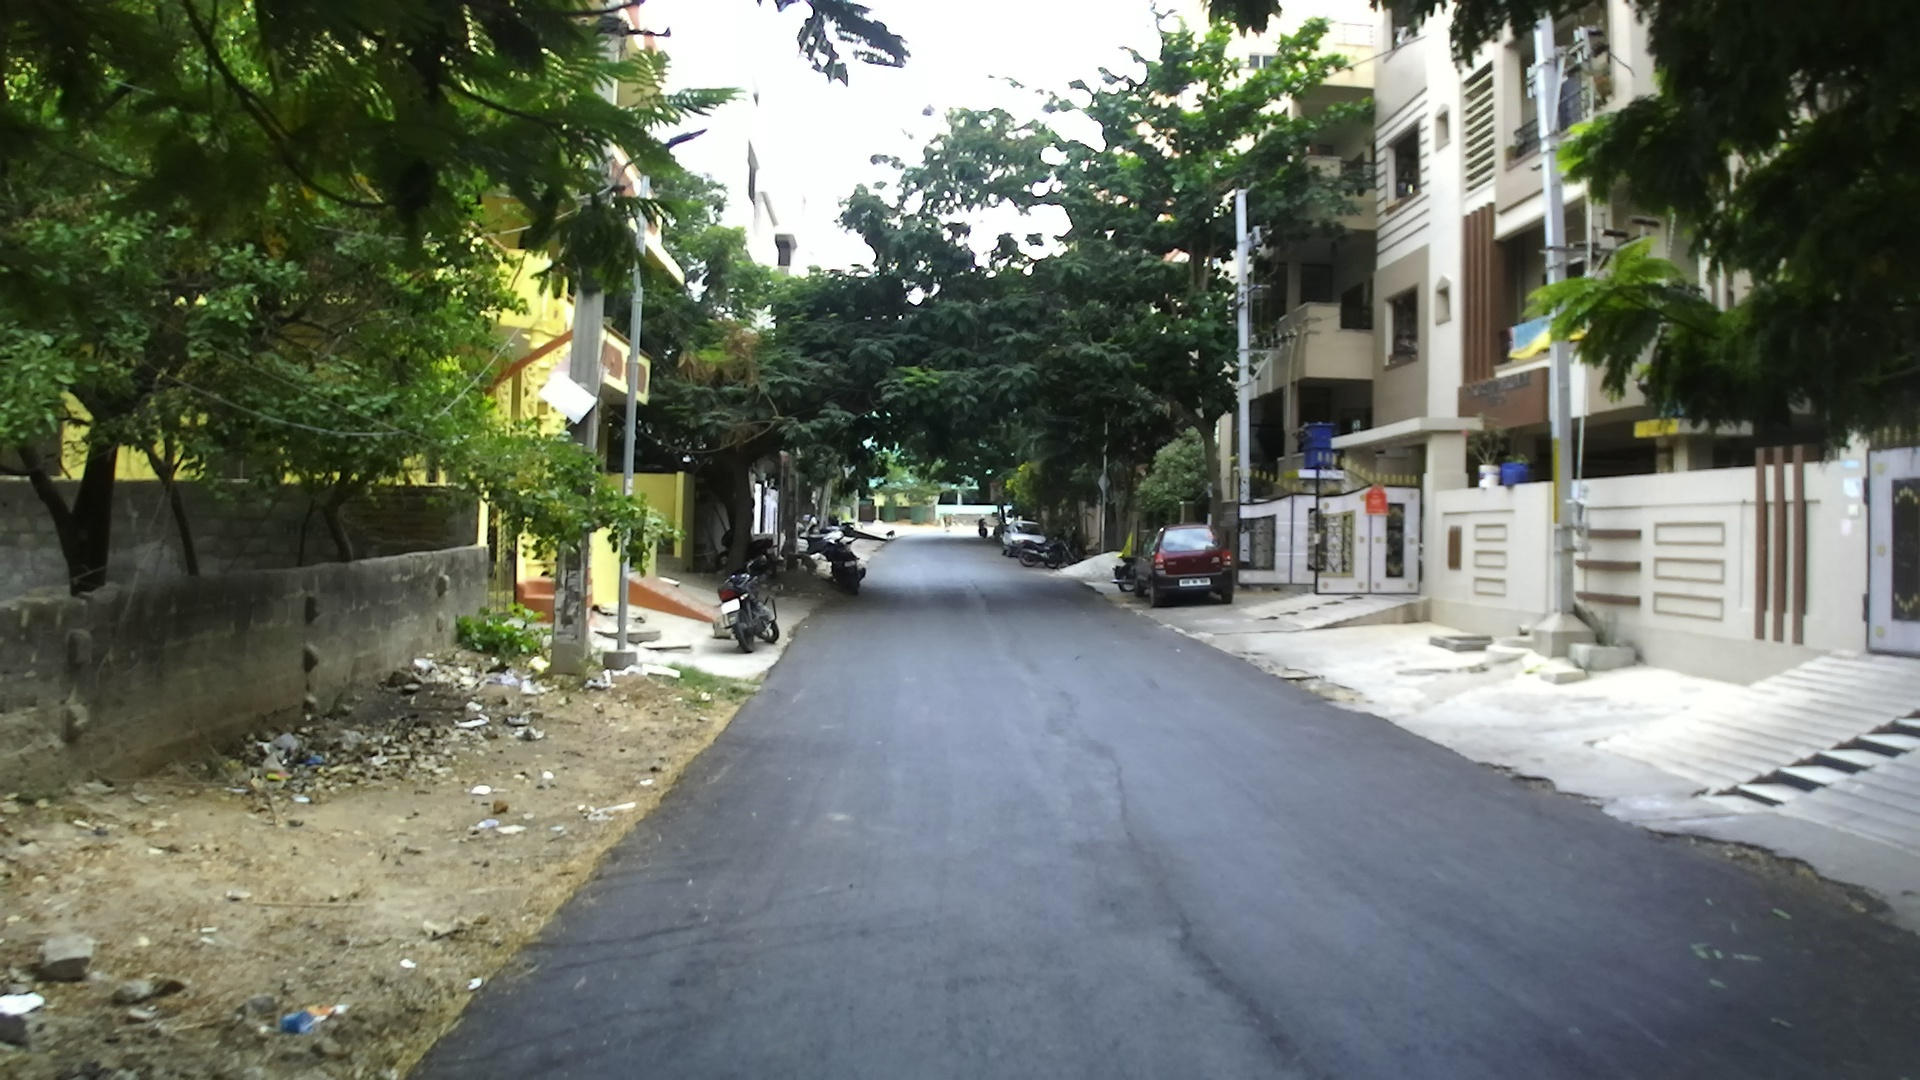vehicle: (1141, 526, 1238, 607), (1000, 521, 1055, 564)
